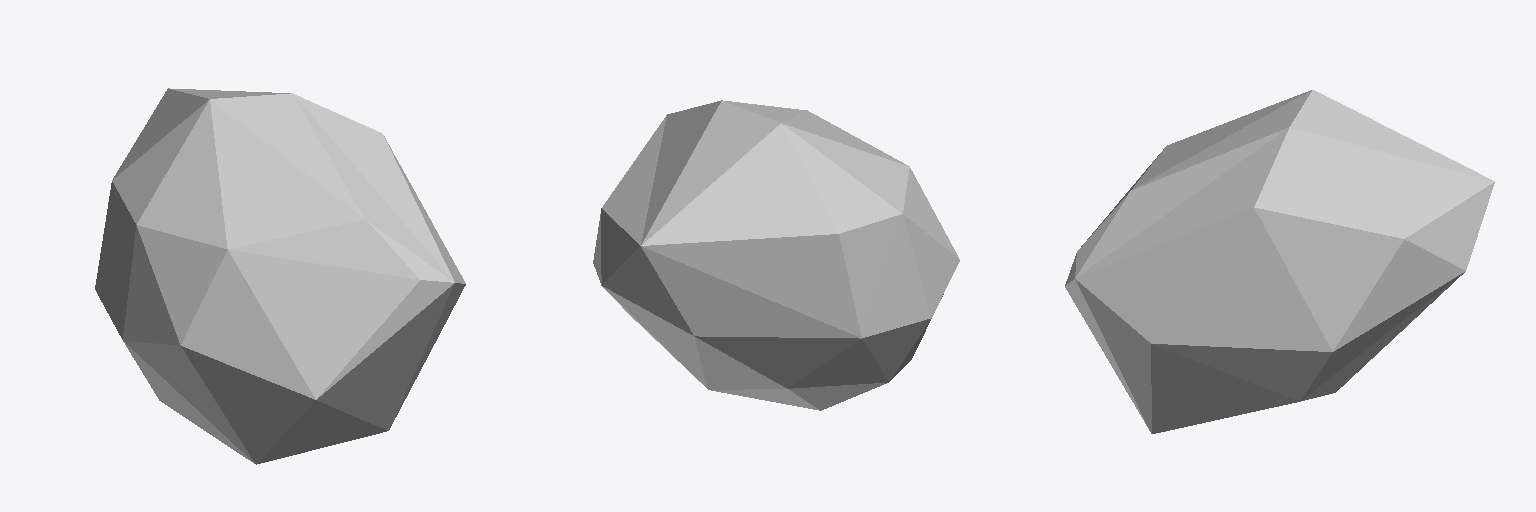
The model's file is Rock3.obj.
The picture shows the model from 3 angles: view 1: azimuth 30°, elevation 25°; view 2: azimuth 150°, elevation 25°; view 3: azimuth 270°, elevation 25°; orthographic projection.
Parts seen in each view (by area): view 1: Sphere.001; view 2: Sphere.001; view 3: Sphere.001.
Part boxes in pixels (left/top/right/bottom): Sphere.001: left=95, top=88, right=465, bottom=464; Sphere.001: left=593, top=100, right=959, bottom=410; Sphere.001: left=1065, top=90, right=1494, bottom=433.
Bounding box in the file's own units: 0.4931 × 0.4825 × 0.6191.